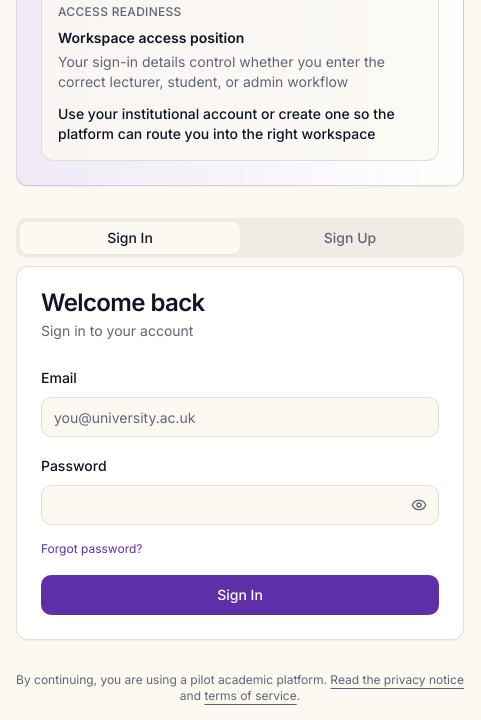
it: Auth › switches to recovery readiness when forgot password is opened
(page scrolled)
Click the button "Forgot password?" at (92, 549), box [41,541,142,557]
(page scrolled)
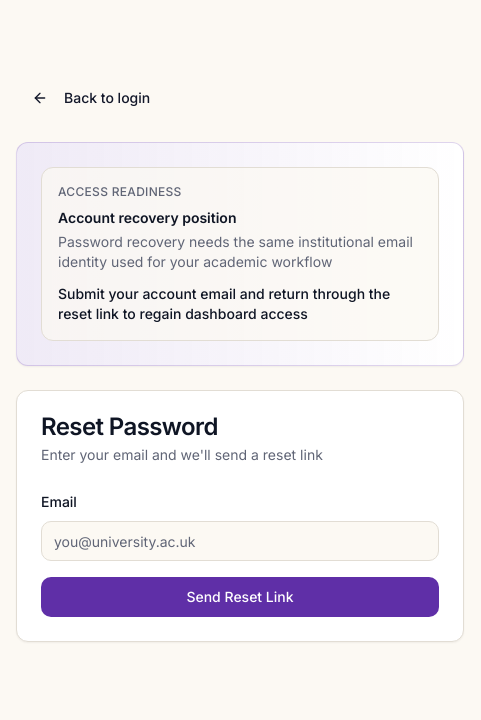
expect the text "Account recovery position" is shown: met, box [58,209,236,226]
expect the text "Password recovery needs the same institutional email identity used for your academic workflow" is shown: met, box [58,233,413,270]
expect the text "Submit your account email and return through the reset link to regain dashboard access" is shown: met, box [58,285,390,322]
